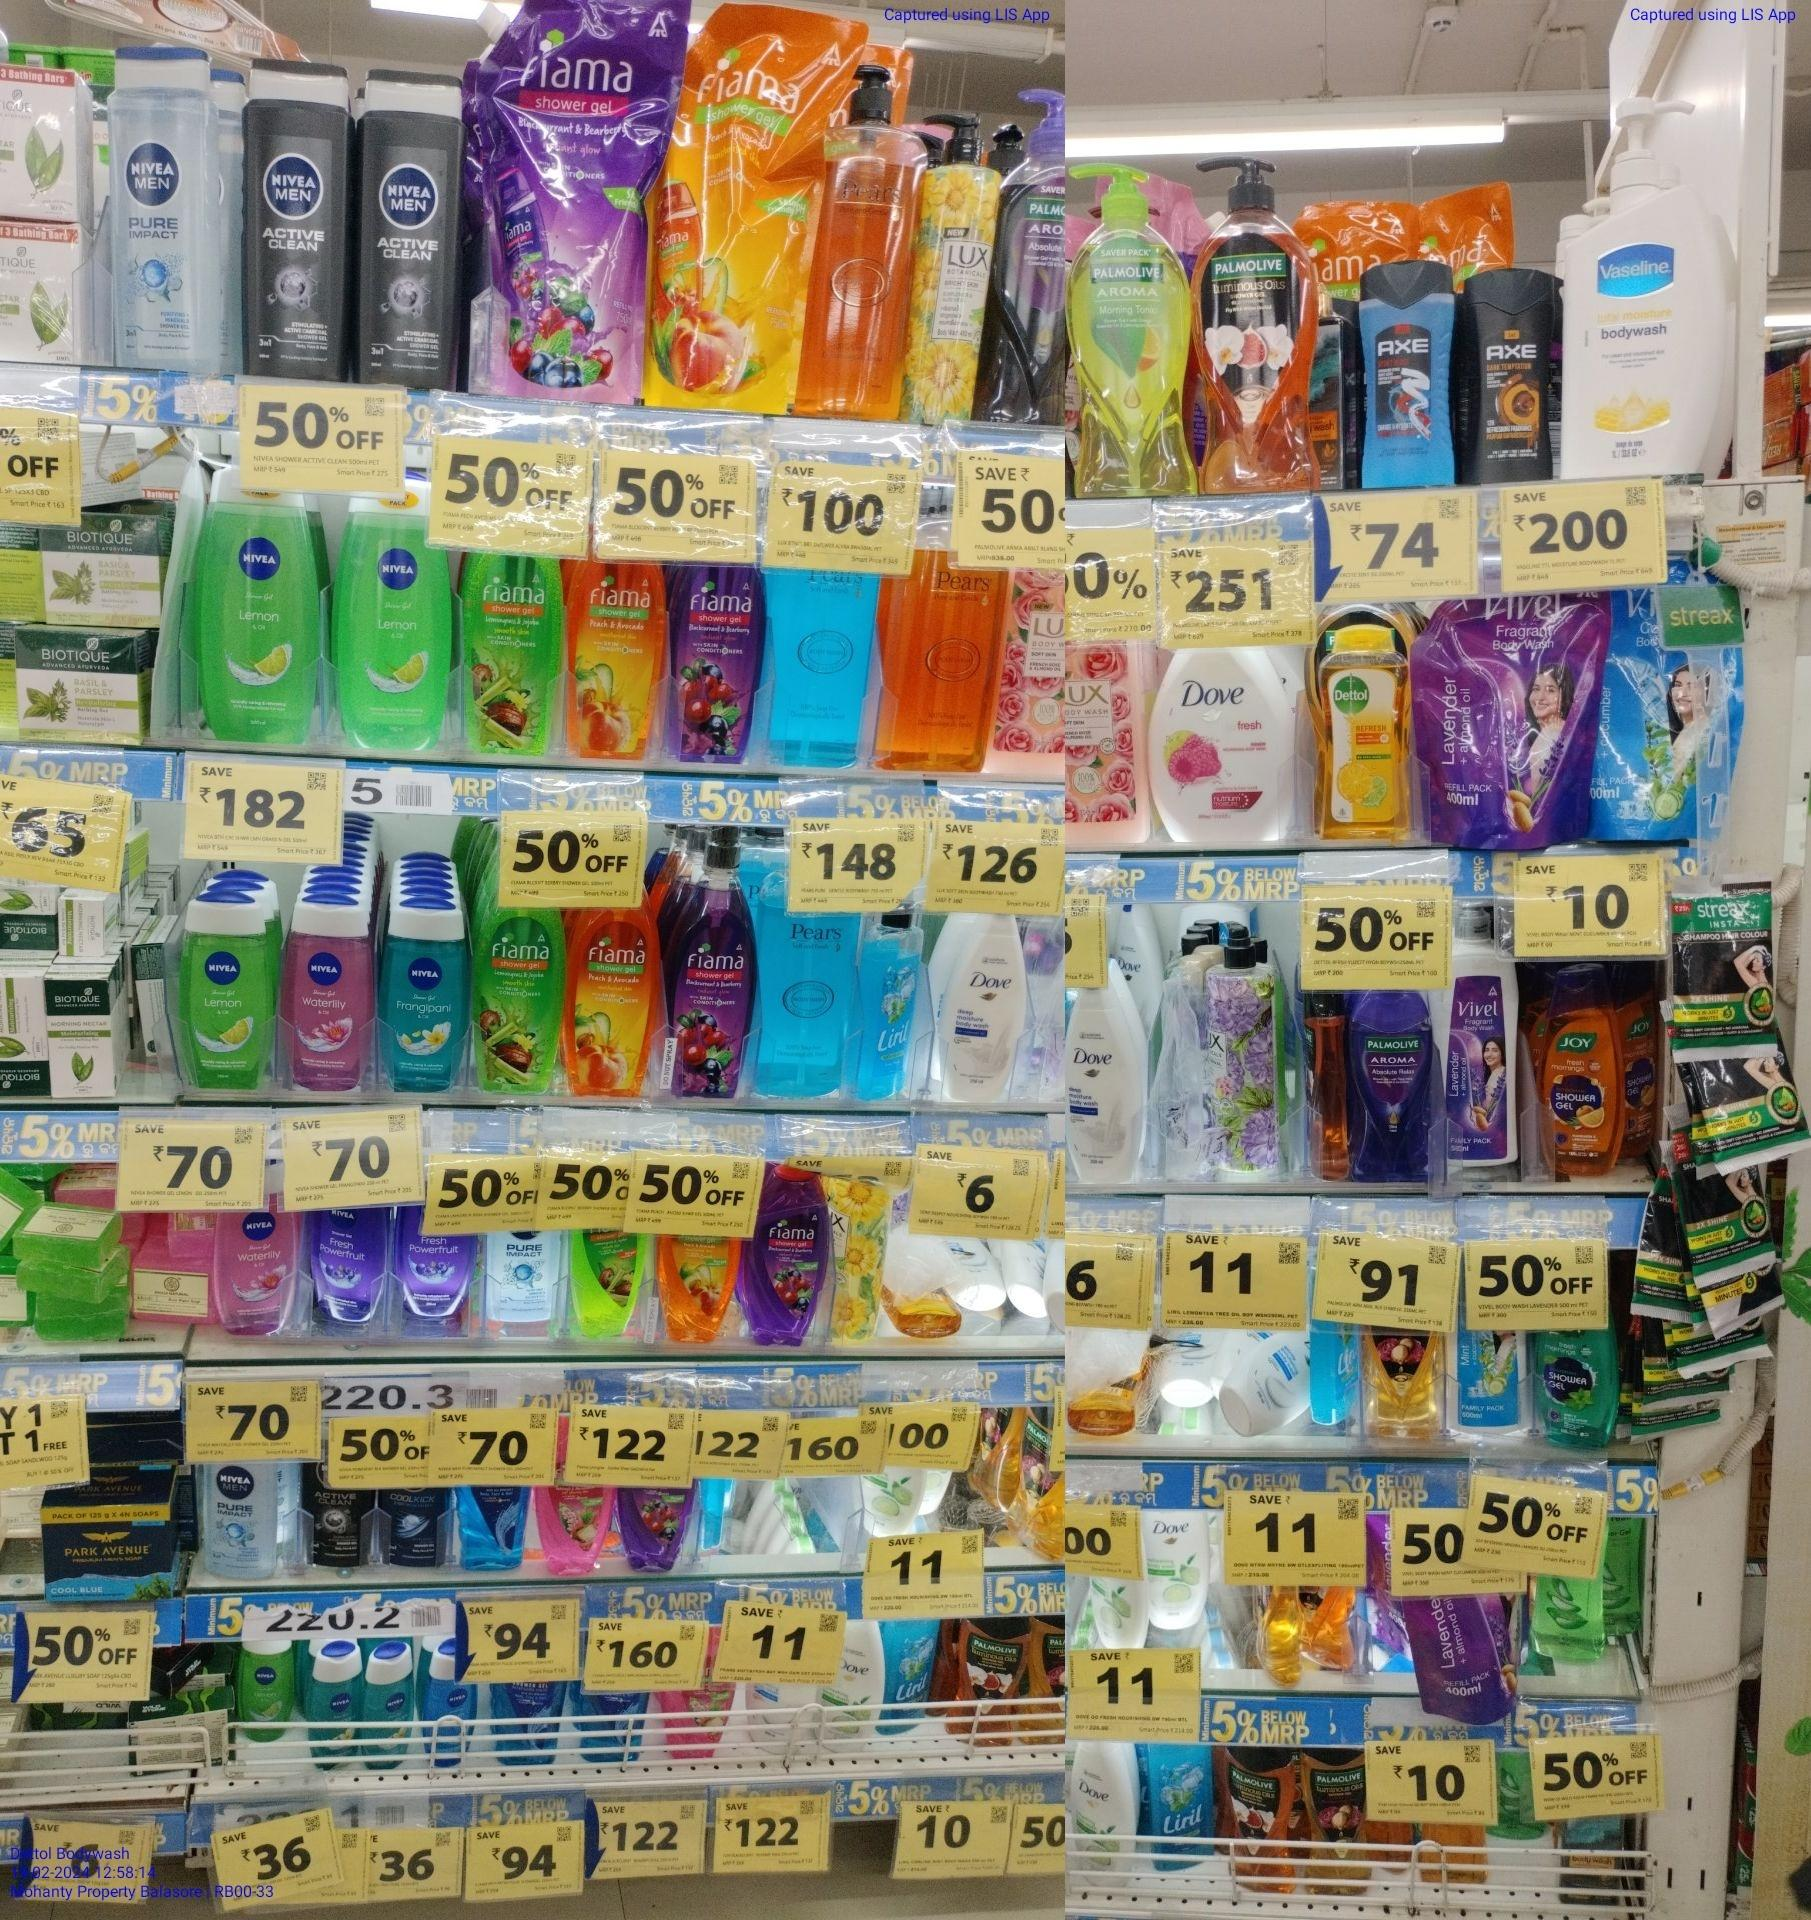Dettol_Bodywash_Refresh: (1314, 623, 1411, 837)
Dove_Deep_Moisture_Body_Wash_250ML: (1062, 979, 1147, 1181), (943, 912, 1026, 1108)
Dove_Refreshing_Body_Wash_250ML: (1071, 1736, 1134, 1889), (1149, 1510, 1208, 1634), (832, 1620, 877, 1750)
Fiama_Shower_Gel_Lemongrass_and_Jojoba_250ML: (575, 1229, 645, 1334)
Fiama_Shower_Gel_Patchouli_and_Macadamia_250ML: (534, 1483, 611, 1569)
Fiama_Shower_Gel_Peach_and_Avocado_250ML: (660, 1232, 739, 1348)
Joy_Shower_Gel_Mandarin_and_Lemongrass_250ML: (1540, 960, 1619, 1174)
Joy_Shower_Gel_Mint_and_Eucalyptus_250ML: (1534, 1326, 1619, 1449)
Liril_Cooling_Mint_Body_Wash_250ML: (861, 909, 919, 1094), (1149, 1738, 1214, 1872), (883, 1619, 936, 1734)
Nivea_Shower_Gel_Frangipani_and_Oil_250ML: (383, 904, 468, 1093)
Nivea_Shower_Gel_Fresh_Powerfruit_250ML: (310, 1209, 386, 1321), (398, 1234, 471, 1319)
Nivea_Shower_Gel_Lemon_and_Oil_250ML: (199, 497, 320, 746), (337, 492, 446, 751), (180, 894, 269, 1089)
Nivea_Shower_Gel_Waterlily_and_Oil_250ML: (283, 900, 371, 1098), (214, 1209, 293, 1345)
Palmolive_Aroma_Relax_250ML: (1346, 980, 1428, 1185)
Palmolive_Luminous_Oils_Invigorating_Macadamia_Oil_With_Peony_250ML: (1302, 1753, 1363, 1889)
Palmolive_Luminous_Oils_With_White_Orchid_Shower_Gel_250ML: (1224, 1751, 1292, 1893), (953, 1617, 1018, 1751)
